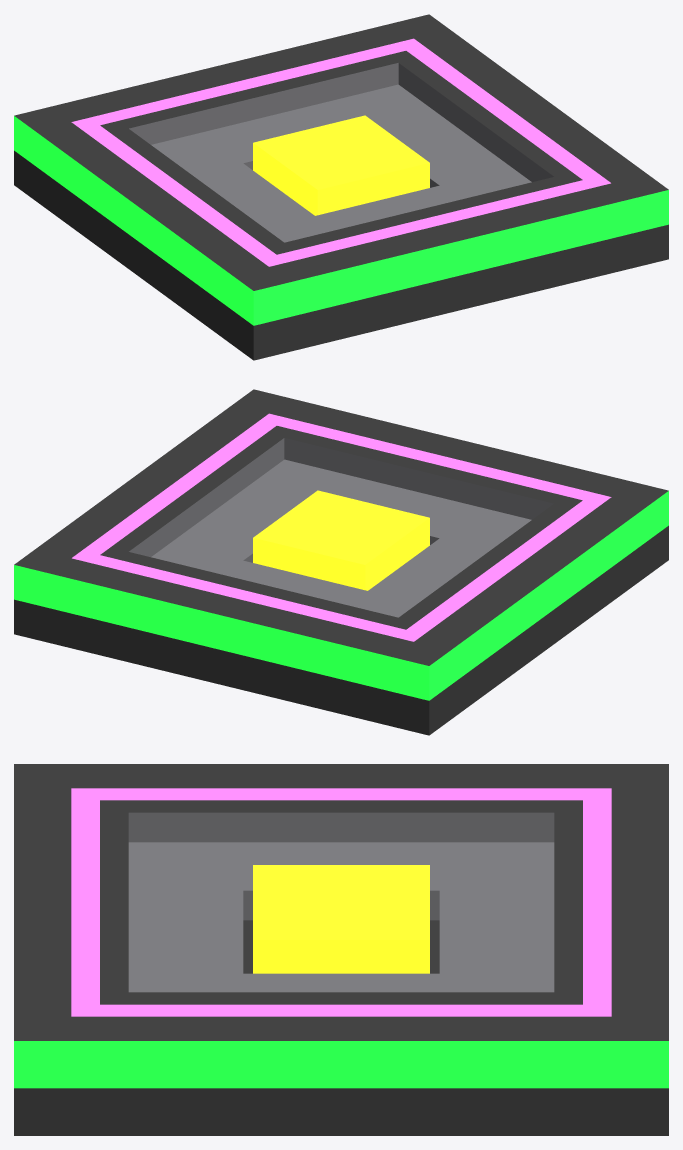
Rendered from Ceiling Light.fbx.
The picture shows the model from 3 angles, top to bottom: view 1: azimuth 30°, elevation 25°; view 2: azimuth 150°, elevation 25°; view 3: azimuth 270°, elevation 25°; orthographic projection. The views are drawn at different scales.
Parts seen in each view (by area): view 1: Ceiling Light; view 2: Ceiling Light; view 3: Ceiling Light.
Boxes of the visible parts, x1=… form: Ceiling Light: x1=14, y1=14, x2=668, y2=360; Ceiling Light: x1=14, y1=389, x2=668, y2=735; Ceiling Light: x1=14, y1=764, x2=668, y2=1135.
Bounding box in the file's own units: 2000 × 320 × 2000.
